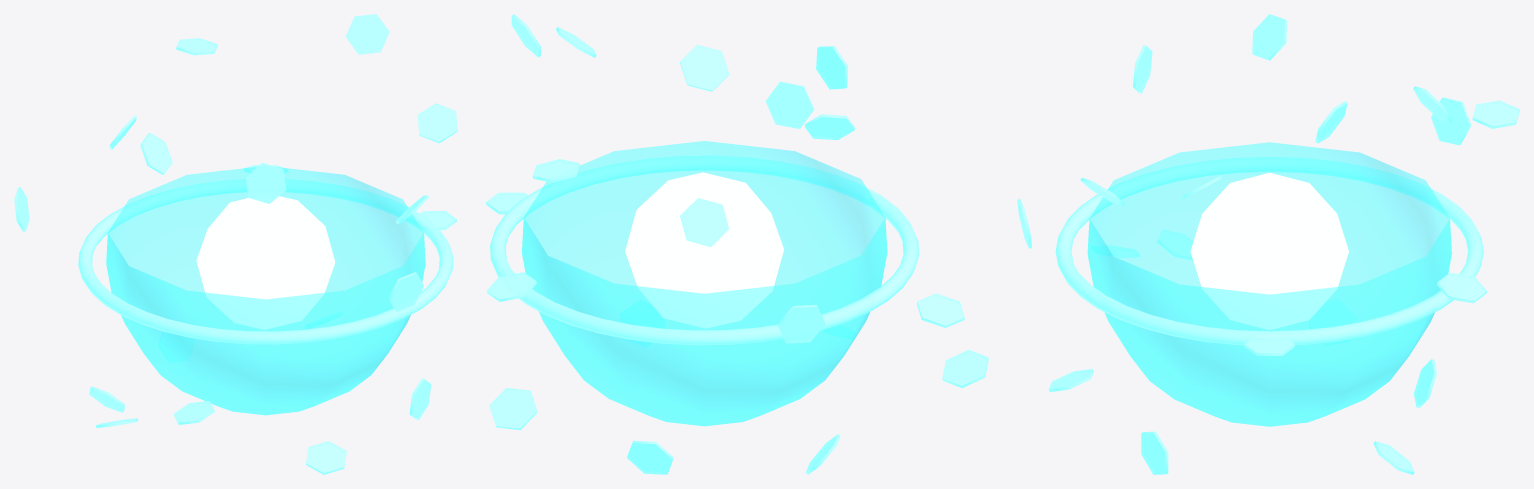
The model's file is vfx_shield_pop.glb.
3 renders of one model, left to right at view 1: azimuth 30°, elevation 25°; view 2: azimuth 150°, elevation 25°; view 3: azimuth 270°, elevation 25°, orthographic. The views are drawn at different scales.
Visible parts, largest first — view 1: pop_shell, pop_flash, pop_ring, pop_shard17, pop_shard6, pop_shard1, pop_shard5, pop_shard4, pop_shard9, pop_shard13, pop_shard7, pop_shard2 (+4 smaller); view 2: pop_shell, pop_flash, pop_ring, pop_shard12, pop_shard3, pop_shard4, pop_shard16, pop_shard11, pop_shard8, pop_shard7, pop_shard13, pop_shard6 (+6 smaller); view 3: pop_shell, pop_flash, pop_ring, pop_shard9, pop_shard11, pop_shard15, pop_shard14, pop_shard10, pop_shard2, pop_shard0, pop_shard8, pop_shard13 (+5 smaller).
Part boxes in pixels (x1,y1,x2,y2): pop_shell: [106, 167, 425, 415]; pop_flash: [196, 196, 335, 329]; pop_ring: [78, 179, 453, 344]; pop_shard17: [345, 14, 389, 54]; pop_shard6: [245, 163, 286, 203]; pop_shard1: [417, 103, 457, 143]; pop_shard5: [306, 441, 346, 474]; pop_shard4: [388, 272, 423, 311]; pop_shard9: [140, 133, 172, 174]; pop_shard13: [158, 332, 194, 362]; pop_shard7: [173, 401, 214, 424]; pop_shard2: [409, 378, 431, 420]; pop_shell: [522, 141, 887, 426]; pop_flash: [625, 172, 783, 328]; pop_ring: [490, 155, 919, 345]; pop_shard12: [680, 198, 728, 246]; pop_shard3: [680, 44, 729, 91]; pop_shard4: [765, 81, 814, 128]; pop_shard16: [489, 388, 537, 429]; pop_shard11: [777, 305, 825, 343]; pop_shard8: [942, 349, 988, 388]; pop_shard7: [916, 293, 964, 327]; pop_shard13: [627, 440, 673, 474]; pop_shard6: [816, 46, 848, 89]; pop_shell: [1087, 142, 1451, 426]; pop_flash: [1190, 172, 1348, 329]; pop_ring: [1055, 157, 1483, 345]; pop_shard9: [1252, 14, 1287, 60]; pop_shard11: [1431, 97, 1471, 145]; pop_shard15: [1436, 272, 1486, 303]; pop_shard14: [1472, 100, 1519, 128]; pop_shard10: [1309, 299, 1355, 344]; pop_shard2: [1141, 431, 1168, 474]; pop_shard0: [1244, 335, 1294, 355]; pop_shard8: [1157, 229, 1193, 260]; pop_shard13: [1414, 359, 1436, 408].
Bounding box in the file's own units: 3.26 × 2.69 × 3.17.
